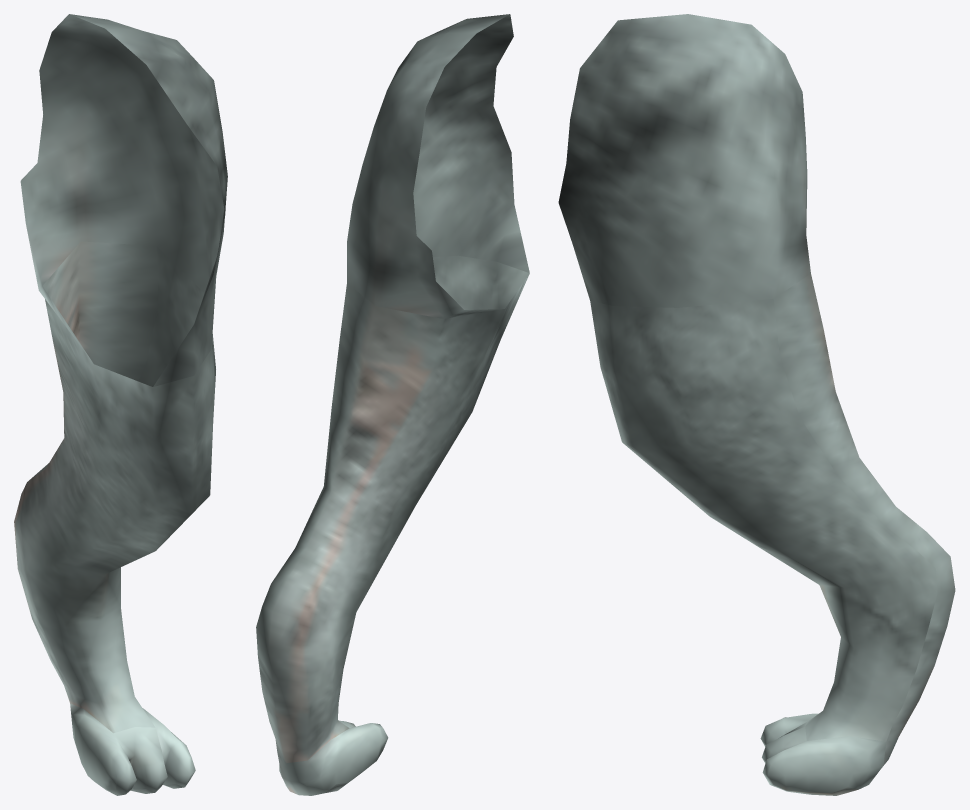
The model's file is Lpatati.obj.
3 views of the same model, side by side, from view 1: azimuth 30°, elevation 25°; view 2: azimuth 150°, elevation 25°; view 3: azimuth 270°, elevation 25° (orthographic). The views are drawn at different scales.
Parts seen in each view (by area): view 1: Cube.002; view 2: Cube.002; view 3: Cube.002.
Boxes of the visible parts, left/top/right/bottom form: Cube.002: left=14, top=14, right=227, bottom=795; Cube.002: left=256, top=14, right=529, bottom=795; Cube.002: left=558, top=14, right=955, bottom=795.
Size of the model in its own units: 0.1374 by 0.6696 by 0.3302.
1 material, 1 textured.
